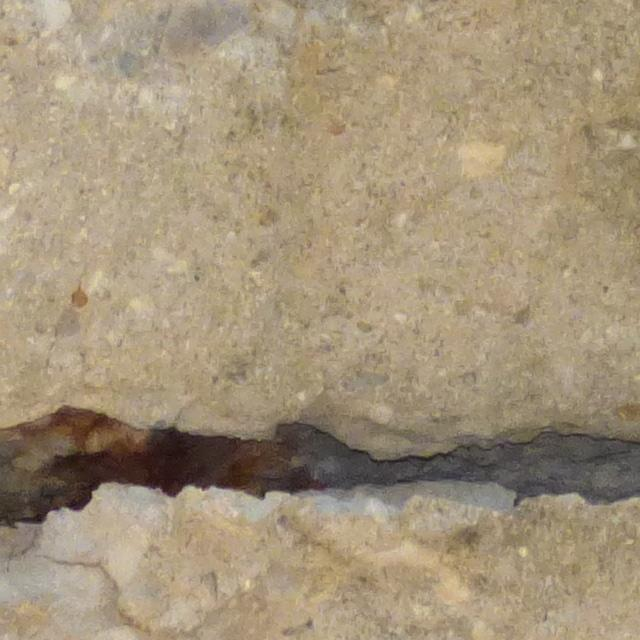Rust: (28, 430, 319, 521)
